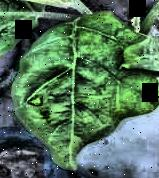Non-critical Stress: (0, 0, 159, 177)
